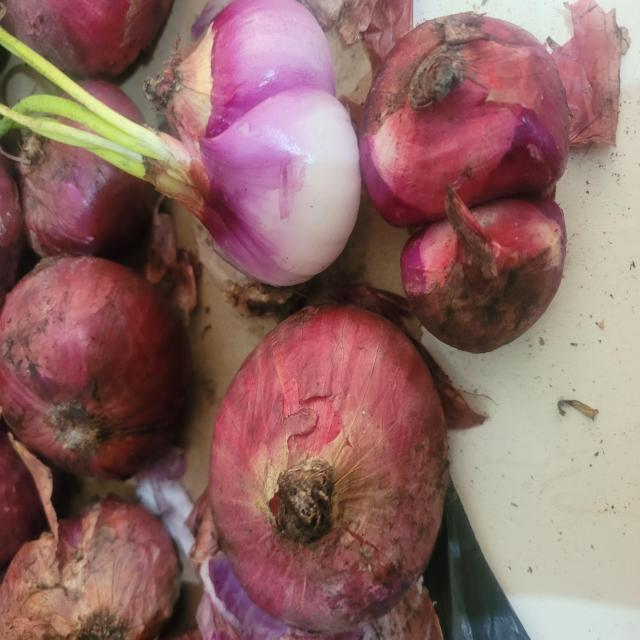rotten: (209, 305, 448, 634), (209, 305, 448, 633), (358, 13, 569, 226), (0, 257, 191, 479), (0, 456, 180, 640), (401, 185, 566, 353)
sprouting: (0, 0, 361, 287)
